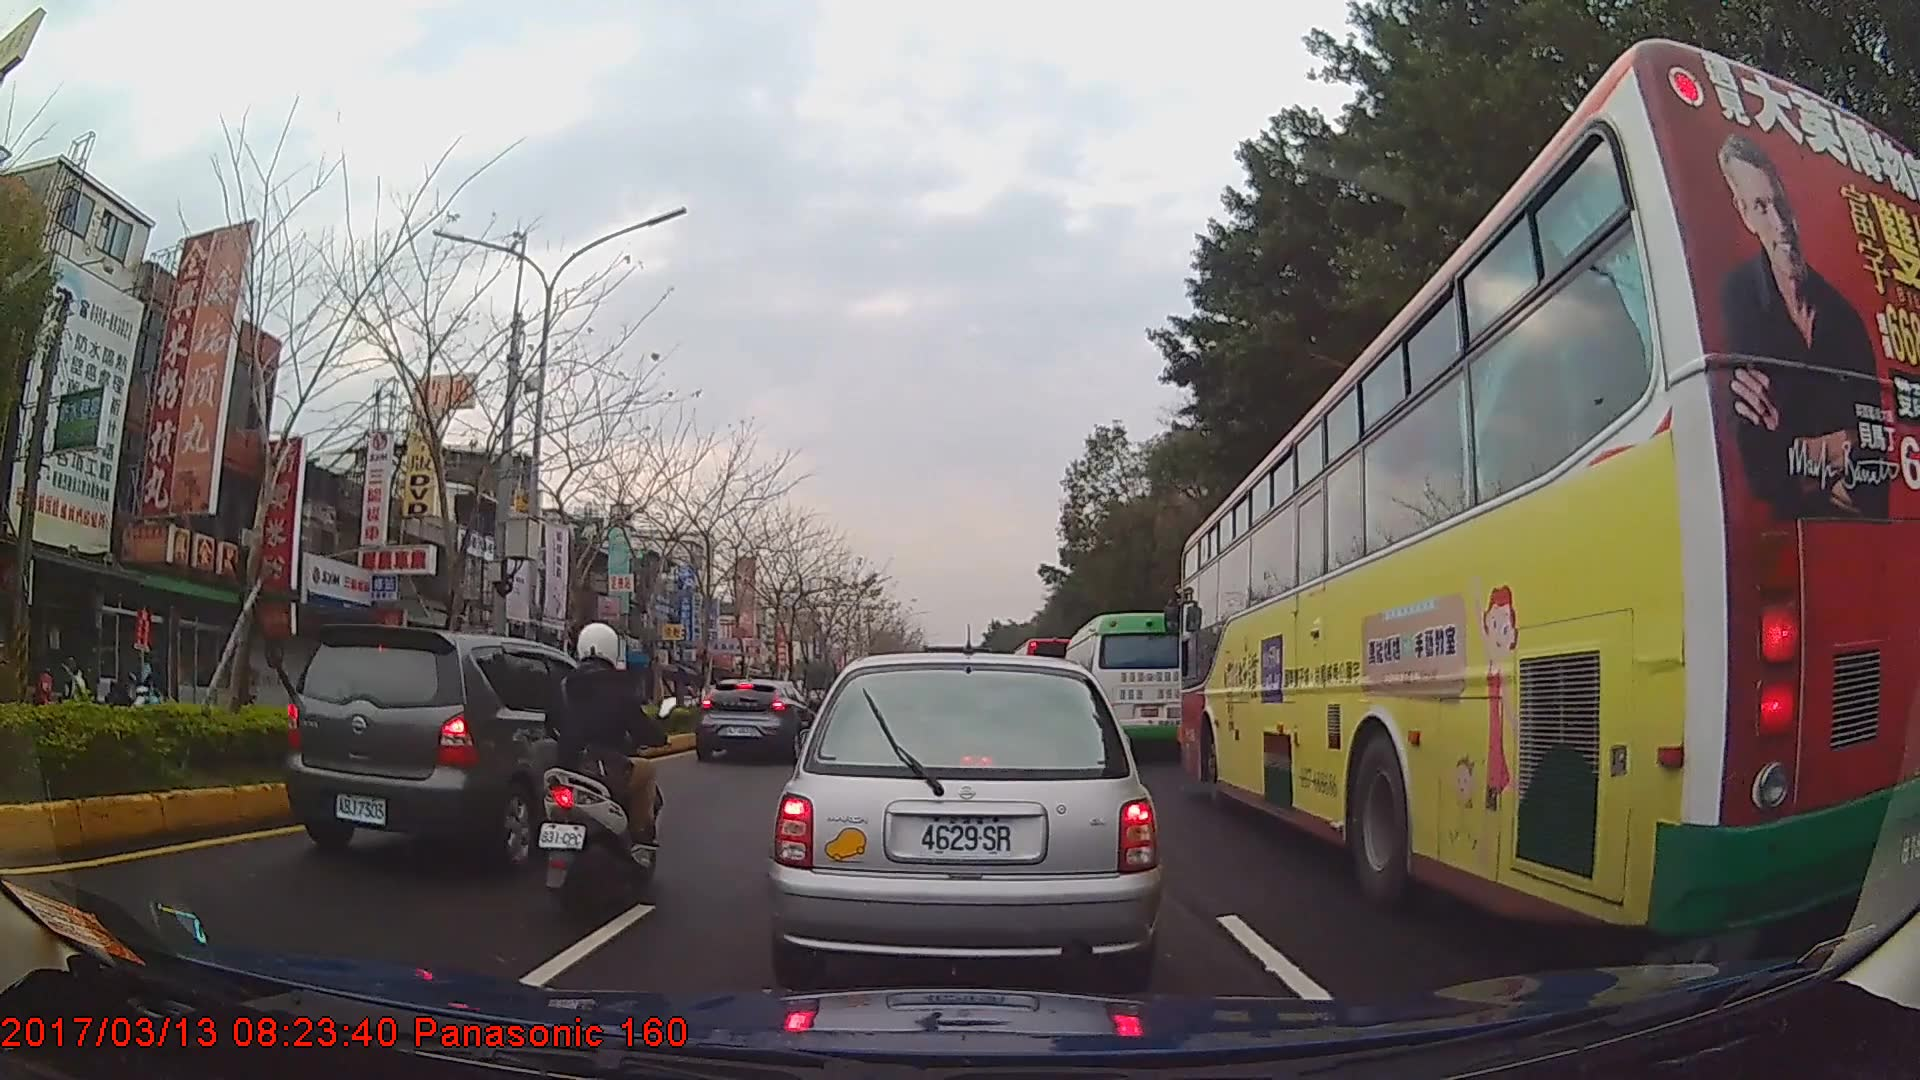rider: (536, 619, 670, 908), (132, 655, 170, 706)
vehicle: (1177, 30, 1920, 945), (770, 650, 1158, 985), (283, 621, 638, 870), (1061, 610, 1192, 761), (694, 677, 818, 765)
